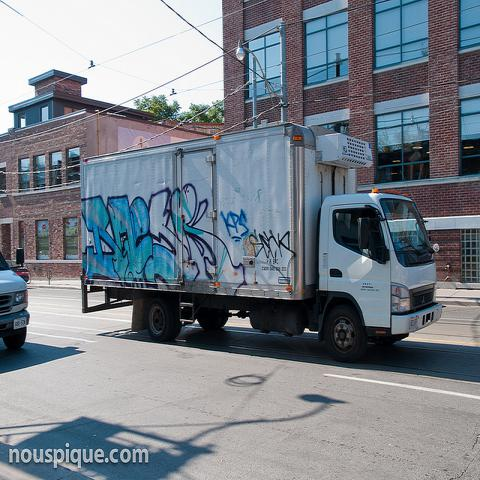car: (0, 245, 28, 348), (7, 260, 30, 282)
truck: (78, 126, 442, 367)
